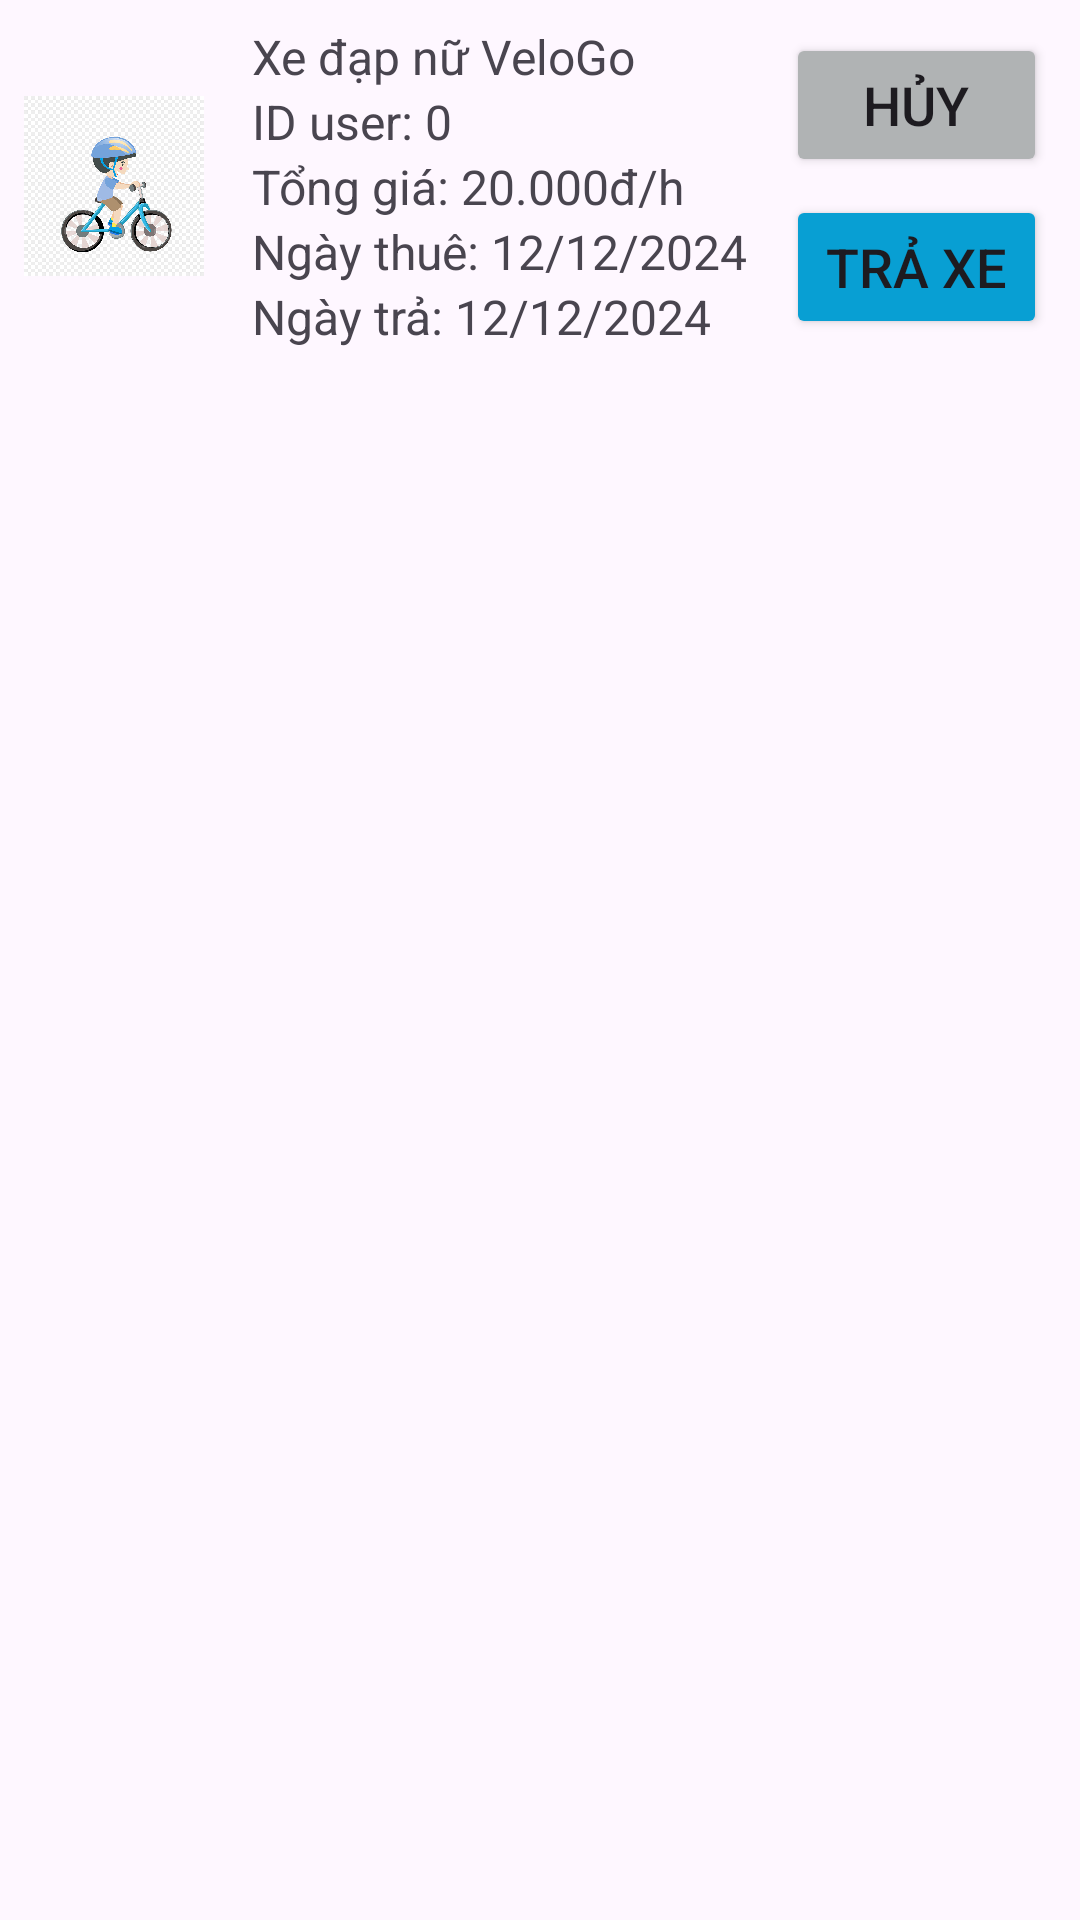

Named icons in this screenshot (1080×1920) and their bounding boxes, [x1=x1, y1=y1, x2=x2, y2=y2]:
cycling: [x1=61, y1=137, x2=172, y2=252]
